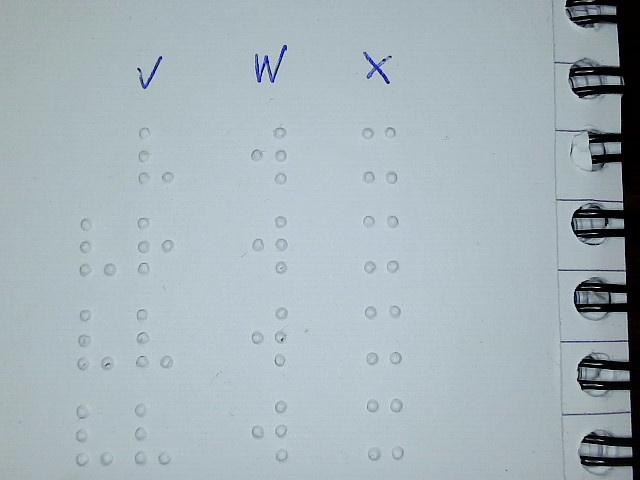V: (133, 401, 172, 466), (75, 402, 114, 467), (137, 125, 176, 186), (78, 216, 117, 277)
W: (250, 399, 290, 462), (249, 124, 288, 185), (250, 214, 289, 275), (250, 305, 289, 366)
X: (365, 396, 405, 461), (360, 124, 399, 185), (362, 213, 401, 274), (363, 304, 402, 365)
